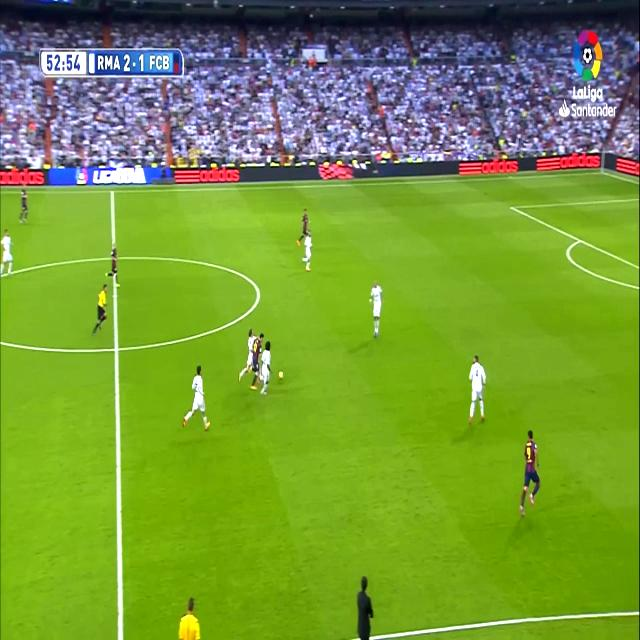halfcircle_bottom: (109, 330, 124, 365)
halfcircle_top: (109, 330, 123, 364)
midline_top_intersection: (109, 185, 118, 199)
top_arc_area_intersection: (575, 232, 584, 247)
